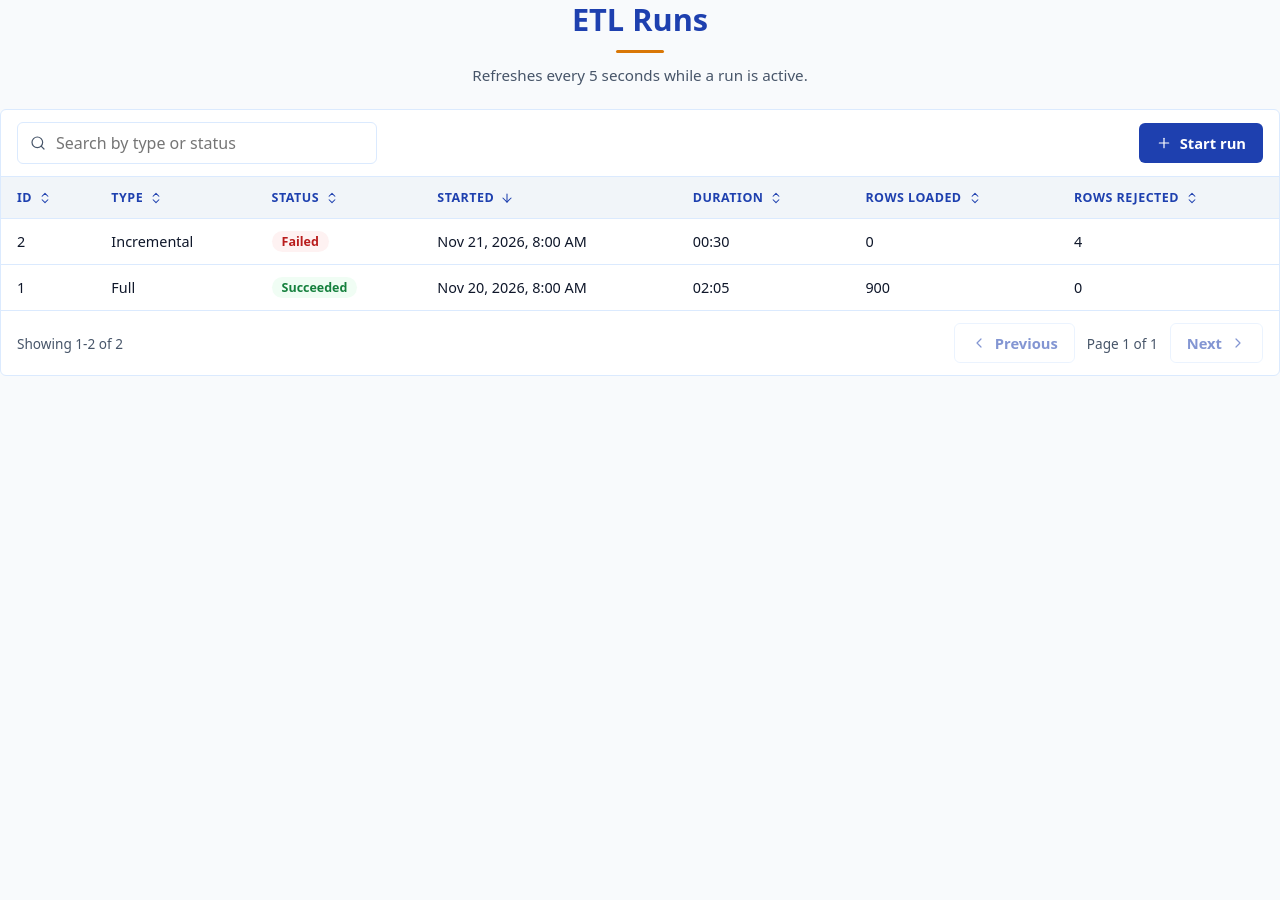
it: clicking a run opens its steps and quality checks, with text as well as icons
Check: the text "Failed" is shown, box [272,231,329,252]
Click the text "Succeeded". click: [640, 288]
box: [1,265,1279,311]
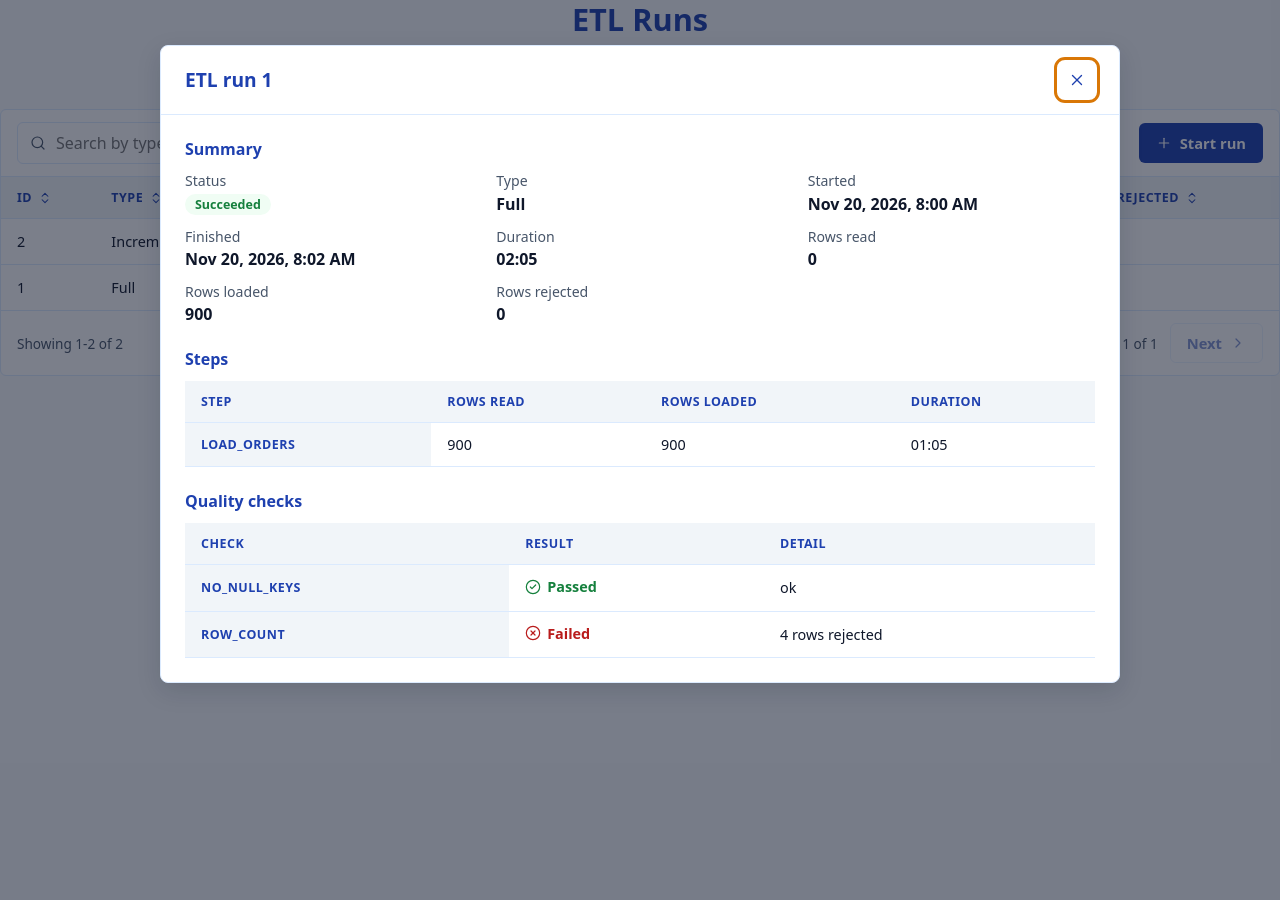
Check: the column heading "load_orders" is shown, box [185,422,431,466]
Check: the text "01:05" is shown, box [895,422,1095,466]
Check: the text "Passed" is shown, box [547,577,597,596]
